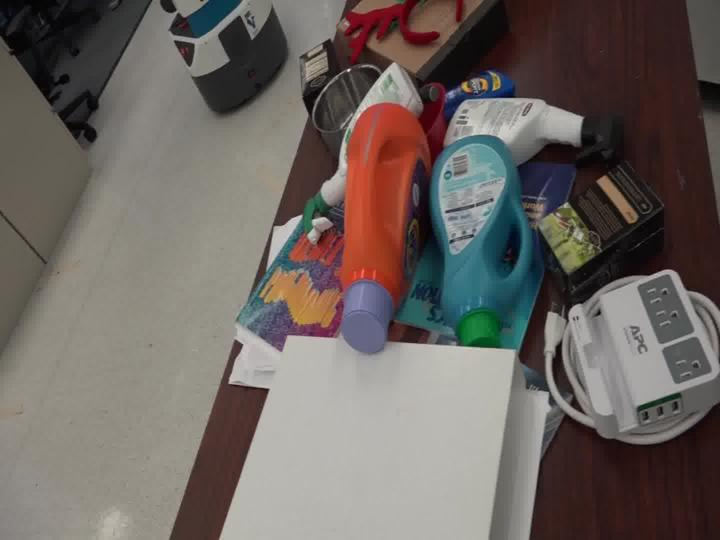downy: (417, 117, 550, 344)
